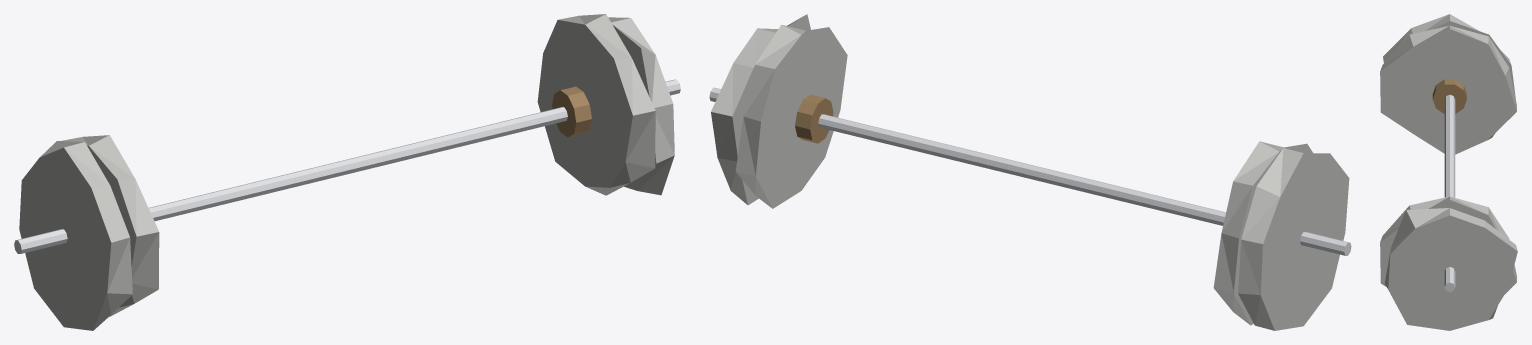
File: Starter_Barbell.fbx
3 renders of one model, left to right at view 1: azimuth 30°, elevation 25°; view 2: azimuth 150°, elevation 25°; view 3: azimuth 270°, elevation 25°, orthographic. The views are drawn at different scales.
Visible parts, largest first — view 1: Starter_Plates, Starter_Bar, Starter_Collars; view 2: Starter_Plates, Starter_Bar, Starter_Collars; view 3: Starter_Plates, Starter_Bar, Starter_Collars.
Boxes of the visible parts, x1=… form: Starter_Plates: x1=19, y1=14, x2=674, y2=330; Starter_Bar: x1=14, y1=79, x2=680, y2=253; Starter_Collars: x1=552, y1=86, x2=591, y2=137; Starter_Plates: x1=711, y1=14, x2=1349, y2=330; Starter_Bar: x1=709, y1=87, x2=1351, y2=255; Starter_Collars: x1=795, y1=94, x2=833, y2=143; Starter_Plates: x1=1380, y1=14, x2=1517, y2=330; Starter_Bar: x1=1444, y1=94, x2=1455, y2=291; Starter_Collars: x1=1432, y1=79, x2=1466, y2=113.
Bounding box in the file's own units: 5.62 × 1.48 × 1.44.
